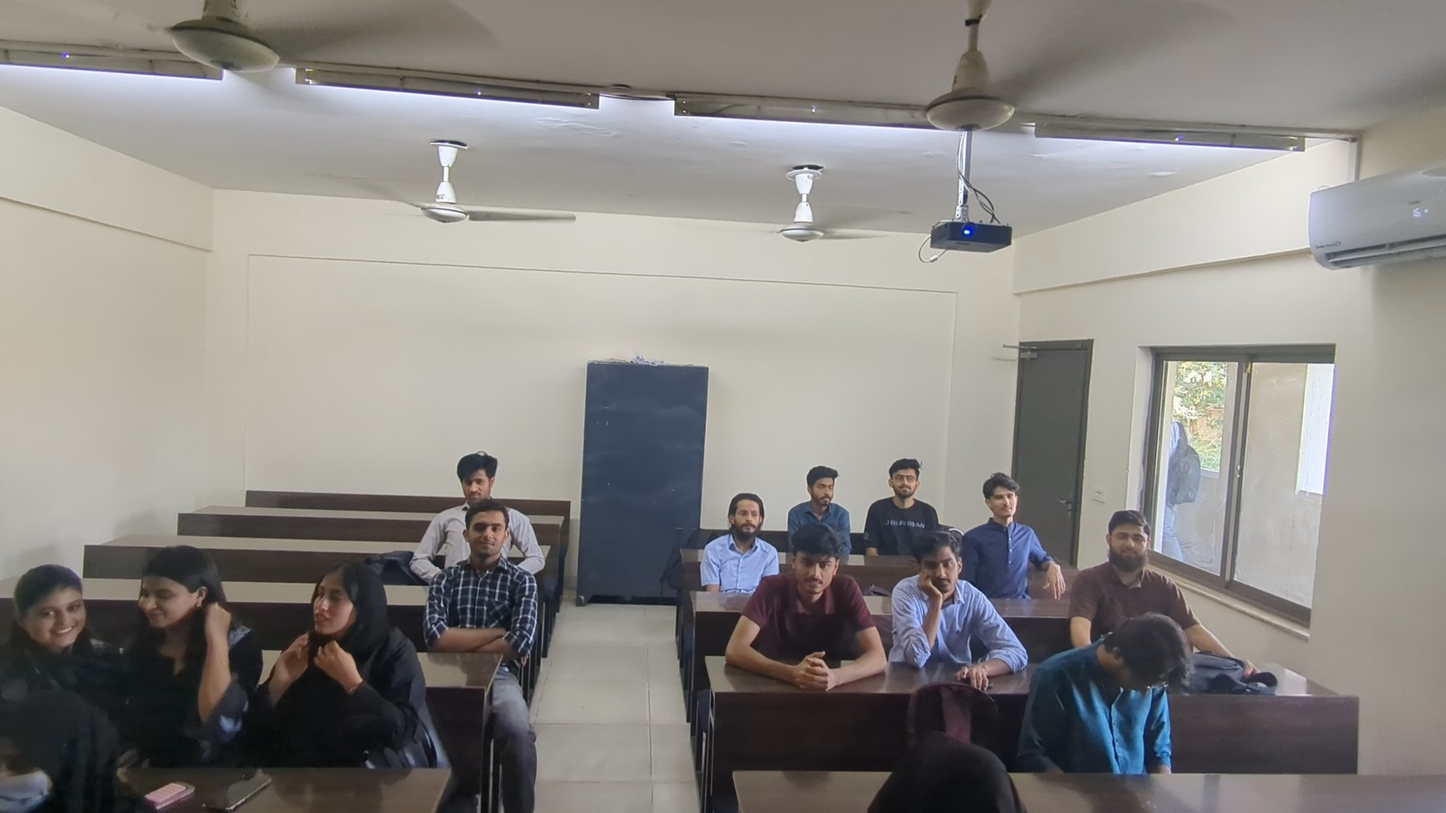look_forward: (721, 525, 885, 689), (887, 538, 1019, 685), (0, 681, 147, 811), (422, 503, 545, 653), (1054, 508, 1207, 624), (9, 556, 111, 682), (967, 472, 1065, 597), (699, 487, 777, 594), (873, 457, 945, 542), (782, 461, 863, 532), (440, 447, 501, 507)
turn_head: (266, 550, 430, 752), (123, 542, 257, 748)
using_device: (1015, 613, 1203, 775)
